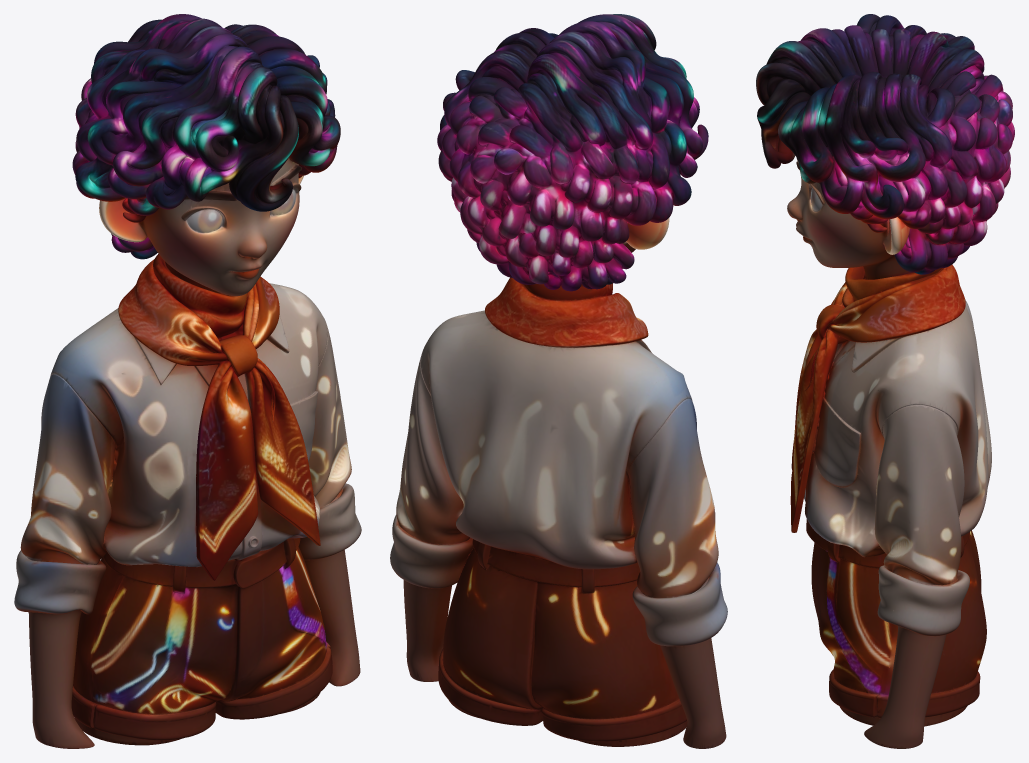
The model's file is 1780479164879-at5znjqq.glb.
3 renders of one model, left to right at view 1: azimuth 30°, elevation 25°; view 2: azimuth 150°, elevation 25°; view 3: azimuth 270°, elevation 25°, orthographic. The views are drawn at different scales.
Visible parts, largest first — view 1: material; view 2: material; view 3: material.
Part boxes in pixels (box(x1,y1,x2,y2)): material: box(14, 14, 361, 748); material: box(390, 14, 727, 748); material: box(756, 14, 1014, 748).
Bounding box in the file's own units: 0.5558 × 1.08 × 0.3912.
1 material, 1 textured.
